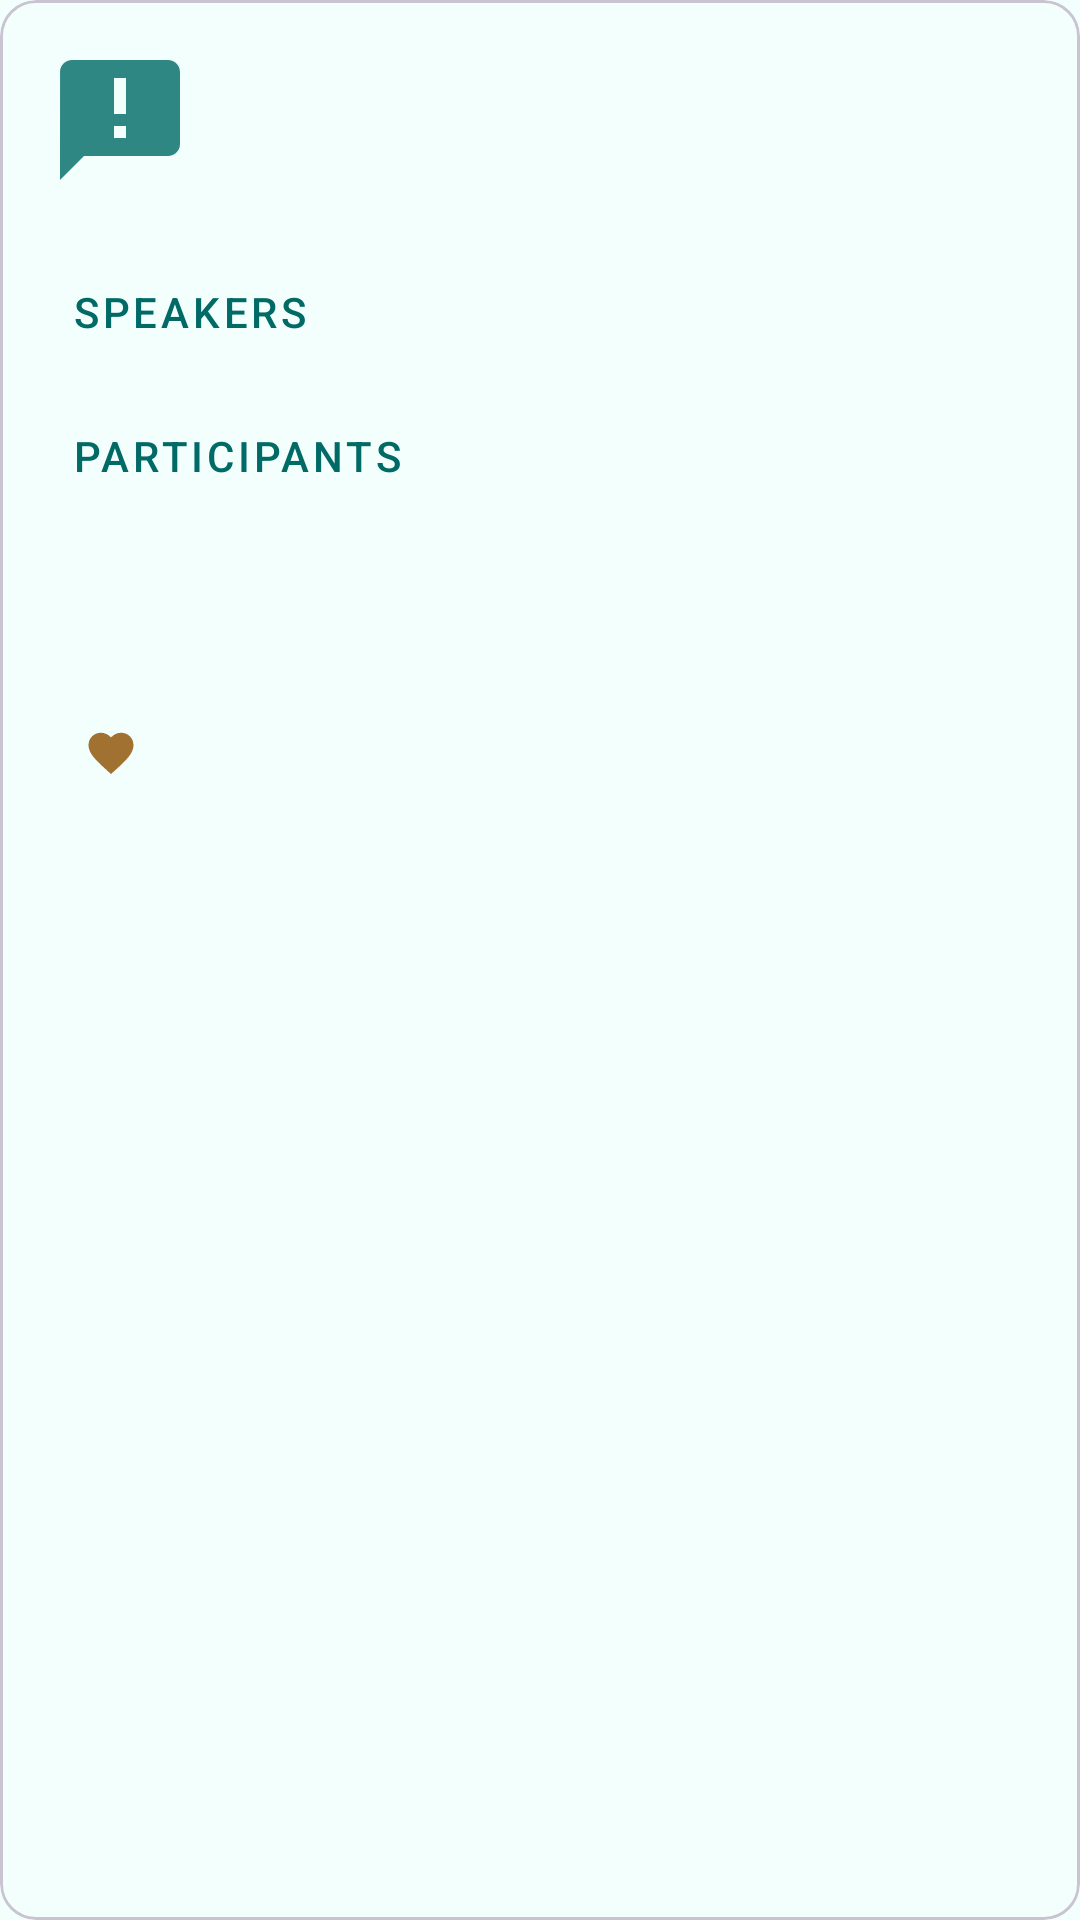

Icons on this 1080 x 1920 Android screen, each with the point to tap as point (x, y):
Who liked the post: point (111, 753)
